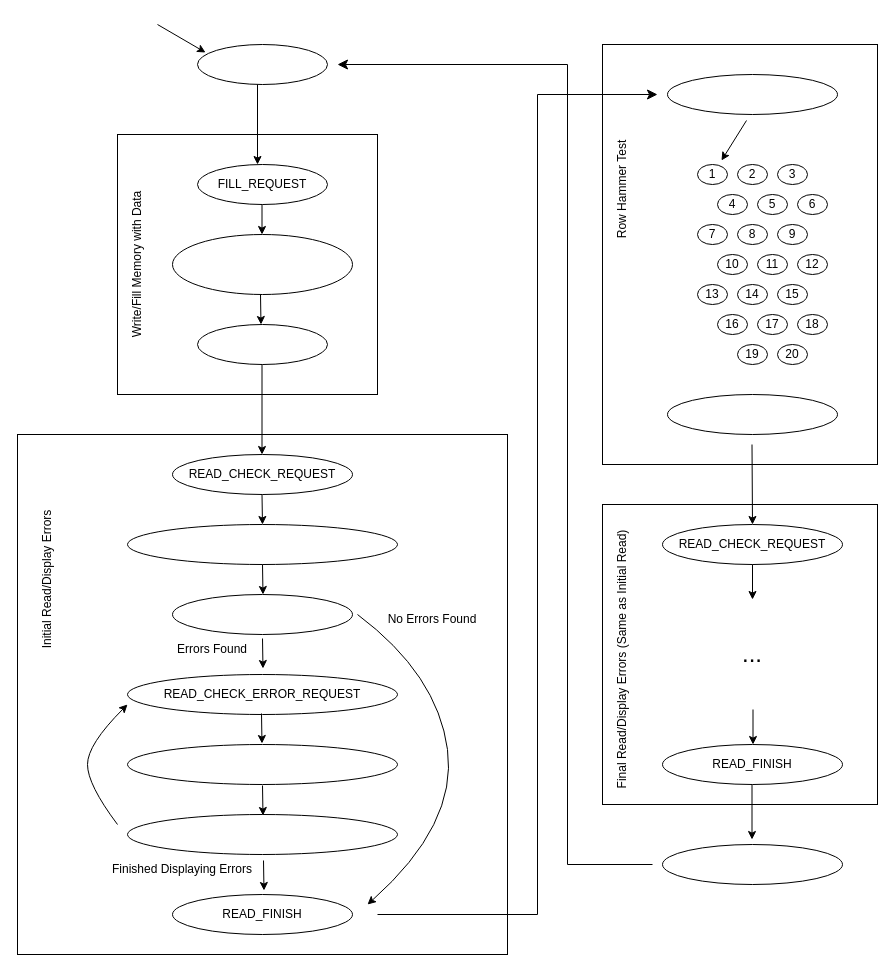
Image size: 895x972. Some labels were removed from this diagram. The centre of each missing label's shape, as x and y in pixels:
FILL_RECEIVE: [262,344]
FILL_REQUEST_RECEIVE: [262,264]
FINAL_CHECK: [752,864]
IDLE: [262,64]
READ_CHECK_ERROR_DISPLAY: [262,834]
READ_CHECK_ERROR_RECEIVE: [262,764]
READ_CHECK_RECEIVE: [262,614]
READ_CHECK_REQUEST_RECEIVE: [262,544]
RH_INIT_SETTINGS: [752,94]
RH_RESET_SETTINGS: [752,414]
